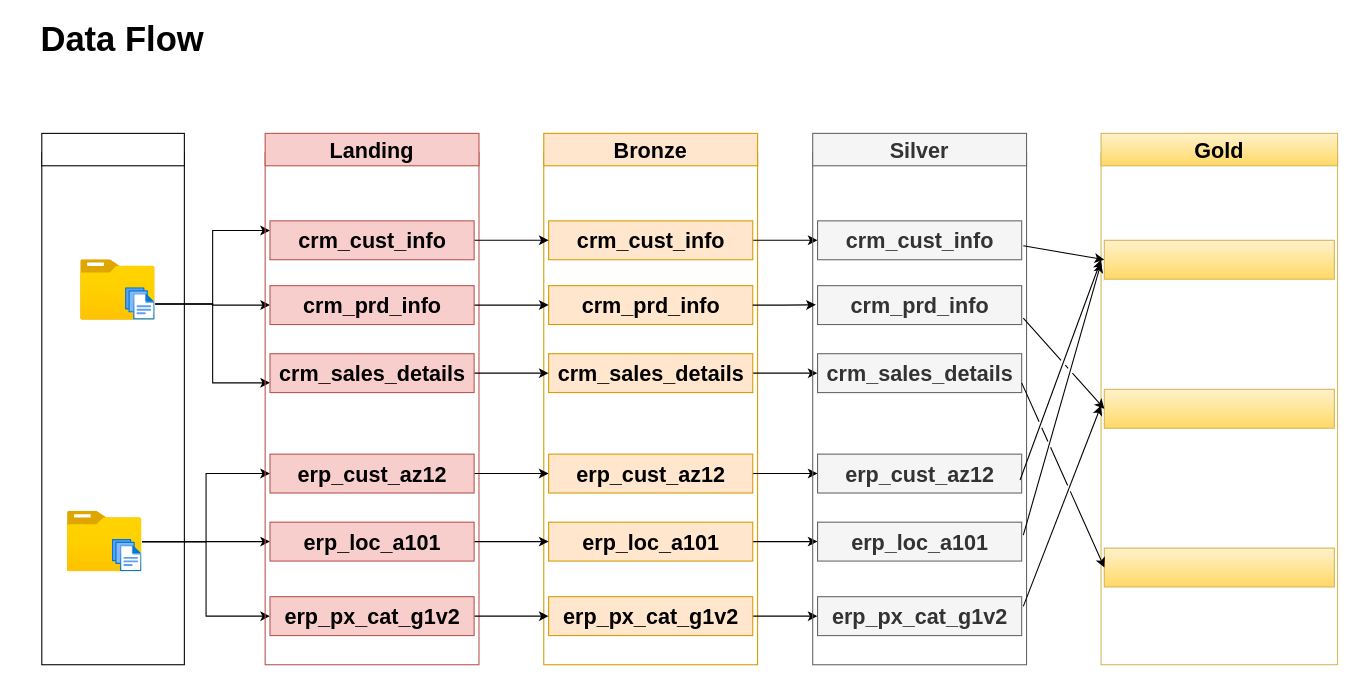
The diagram is 1356 pixels wide and 684 high, and some of its shapes have lost their labels. Here are the shapes that lost their labels. From the top down, the box of each, then its label:
(41, 132, 184, 166): Source
(1103, 239, 1334, 279): gold.dim_customers
(80, 259, 155, 320): CRM
(1103, 388, 1334, 428): gold.dim_products
(67, 511, 141, 571): ERP
(1103, 547, 1334, 587): gold.fact_sales
